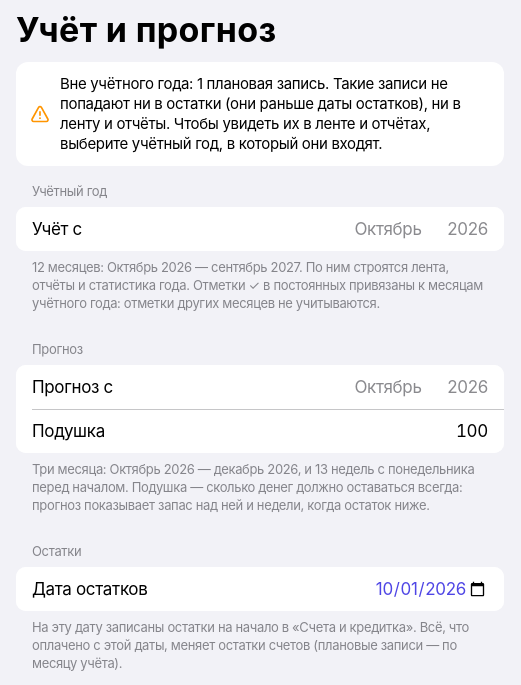
«Настройки» › the balances date: a date is saved; a bad year or an empty field keeps it
The image size is (521, 685).
Type "2026-09-15" into the date field labelled "Дата остатков". click: (324, 589)
box: [160,567,488,611]
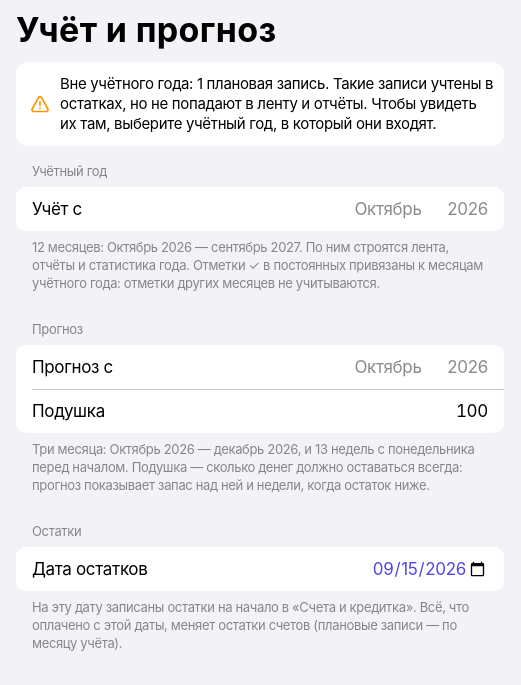
Type "0026-09-15" into the date field labelled "Дата остатков". click: (324, 569)
box: [160,547,488,591]
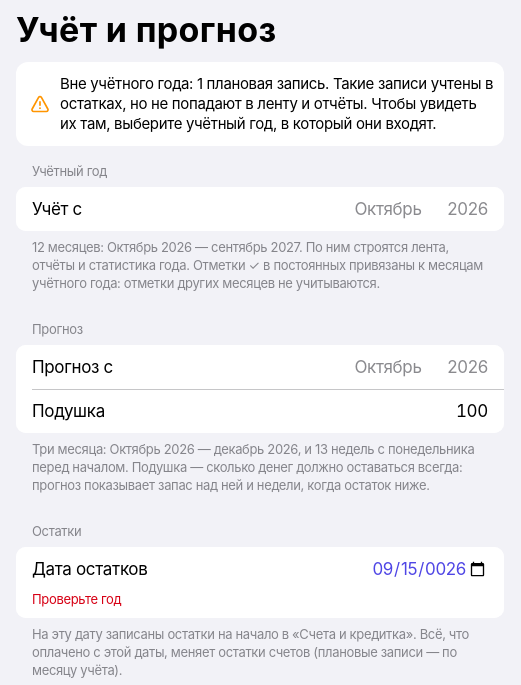
Clear the date field labelled "Дата остатков". click: (324, 569)
box: [160,547,488,591]
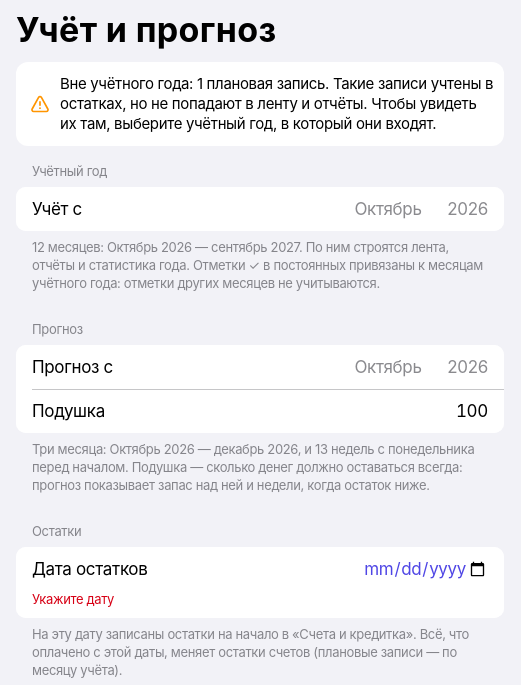
expect the text "Укажите дату" is shown: met, box [32,591,114,607]
